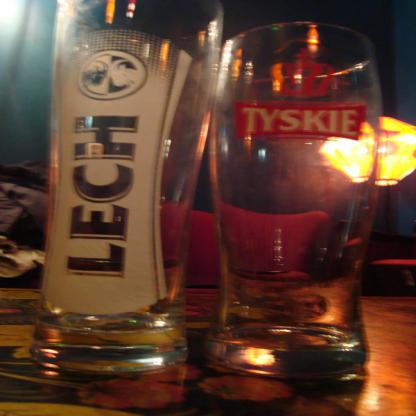drinking: (28, 0, 222, 372), (204, 22, 381, 377)
